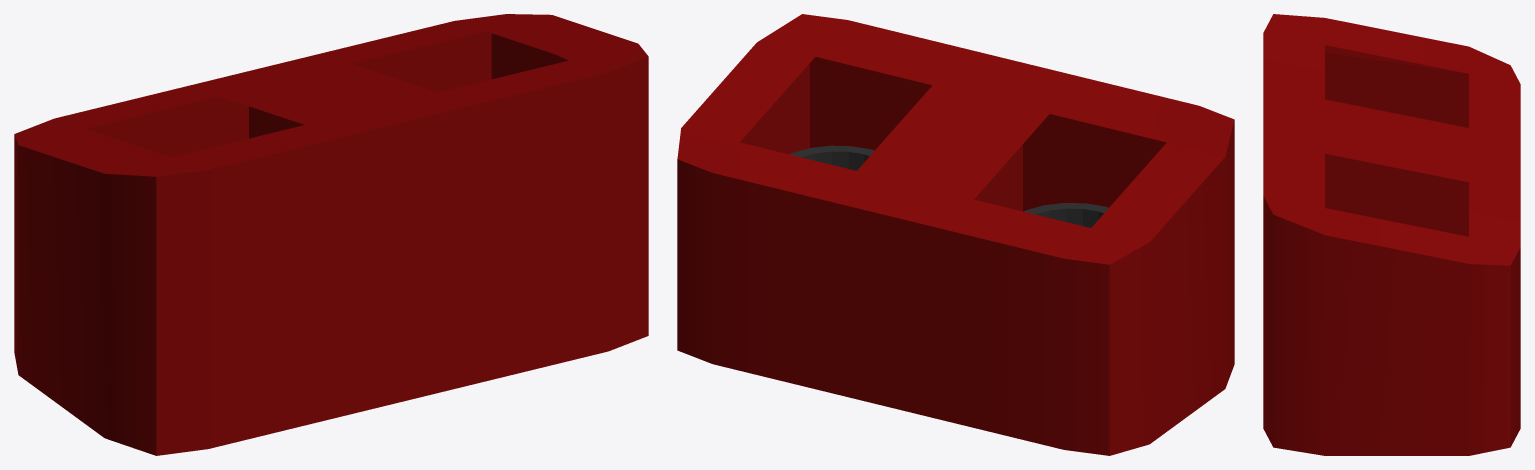
Rendered from SM_TrashCan.fbx.
3 views of the same model, side by side, from view 1: azimuth 30°, elevation 25°; view 2: azimuth 150°, elevation 25°; view 3: azimuth 270°, elevation 25° (orthographic). The views are drawn at different scales.
Visible parts, largest first — view 1: pCube1; view 2: pCube1, pCylinder1, pCylinder2; view 3: pCube1.
Part boxes in pixels (x1,y1,x2,y2): pCube1: (14, 14, 648, 455); pCube1: (677, 14, 1234, 455); pCylinder1: (789, 145, 874, 170); pCylinder2: (1024, 203, 1108, 227); pCube1: (1263, 14, 1520, 455).
Size of the model in its own units: 200 by 100 by 100.
